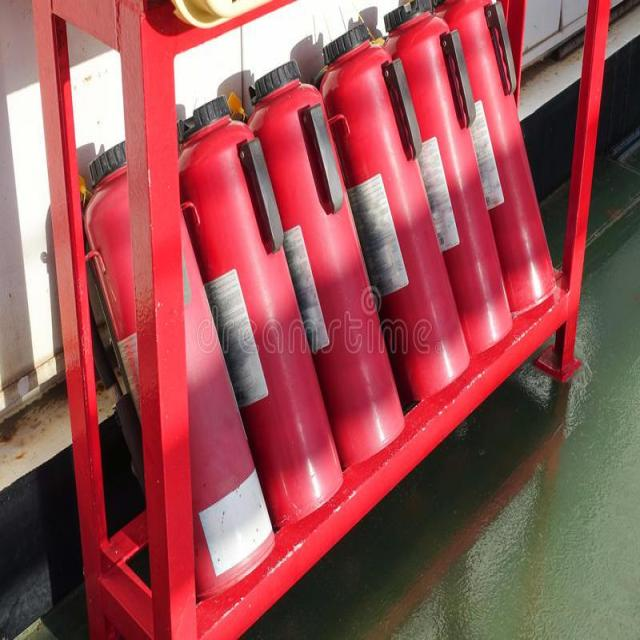fire_extinguisher: (79, 118, 278, 602), (143, 90, 347, 532), (229, 48, 408, 482), (316, 19, 474, 403), (373, 0, 515, 367), (426, 0, 561, 325)
